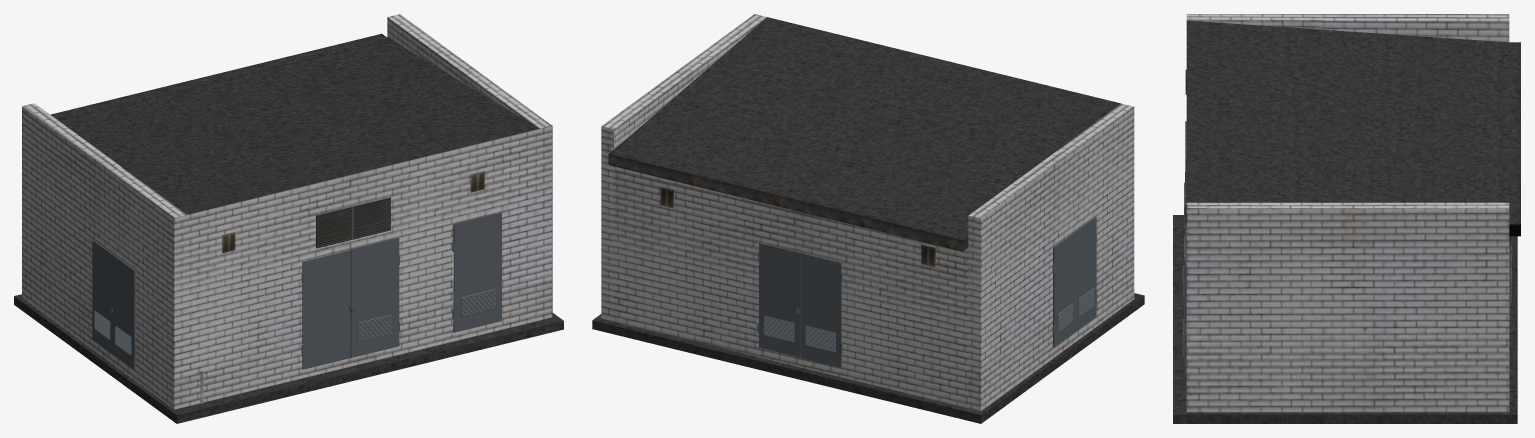
Rendered from ktp_12.01.2015.FBX.
3 renders of one model, left to right at view 1: azimuth 30°, elevation 25°; view 2: azimuth 150°, elevation 25°; view 3: azimuth 270°, elevation 25°, orthographic. The views are drawn at different scales.
Parts seen in each view (by area): view 1: Box001, Box979, Cylinder008, Box004, Cylinder001, Box003, Box980, Box912; view 2: Box001, Box979, Box907, Box909, Box912, Box980; view 3: Box001, Box979, Box004.
Part boxes in pixels (box(x1,y1,x2,y2)): Box001: box(22, 14, 552, 409); Box979: box(14, 294, 563, 423); Cylinder008: box(350, 237, 399, 357); Box004: box(452, 212, 501, 332); Cylinder001: box(301, 250, 351, 369); Box003: box(316, 197, 390, 248); Box980: box(113, 255, 135, 370); Box912: box(92, 240, 114, 354); Box001: box(601, 14, 1134, 411); Box979: box(592, 293, 1144, 423); Box907: box(757, 242, 800, 357); Box909: box(800, 253, 842, 367); Box912: box(1052, 232, 1075, 347); Box980: box(1074, 216, 1096, 331); Box001: box(1186, 14, 1520, 412); Box979: box(1173, 215, 1517, 423); Box004: box(1182, 235, 1186, 375).
Size of the model in its own units: 7661 by 3885 by 5635.
